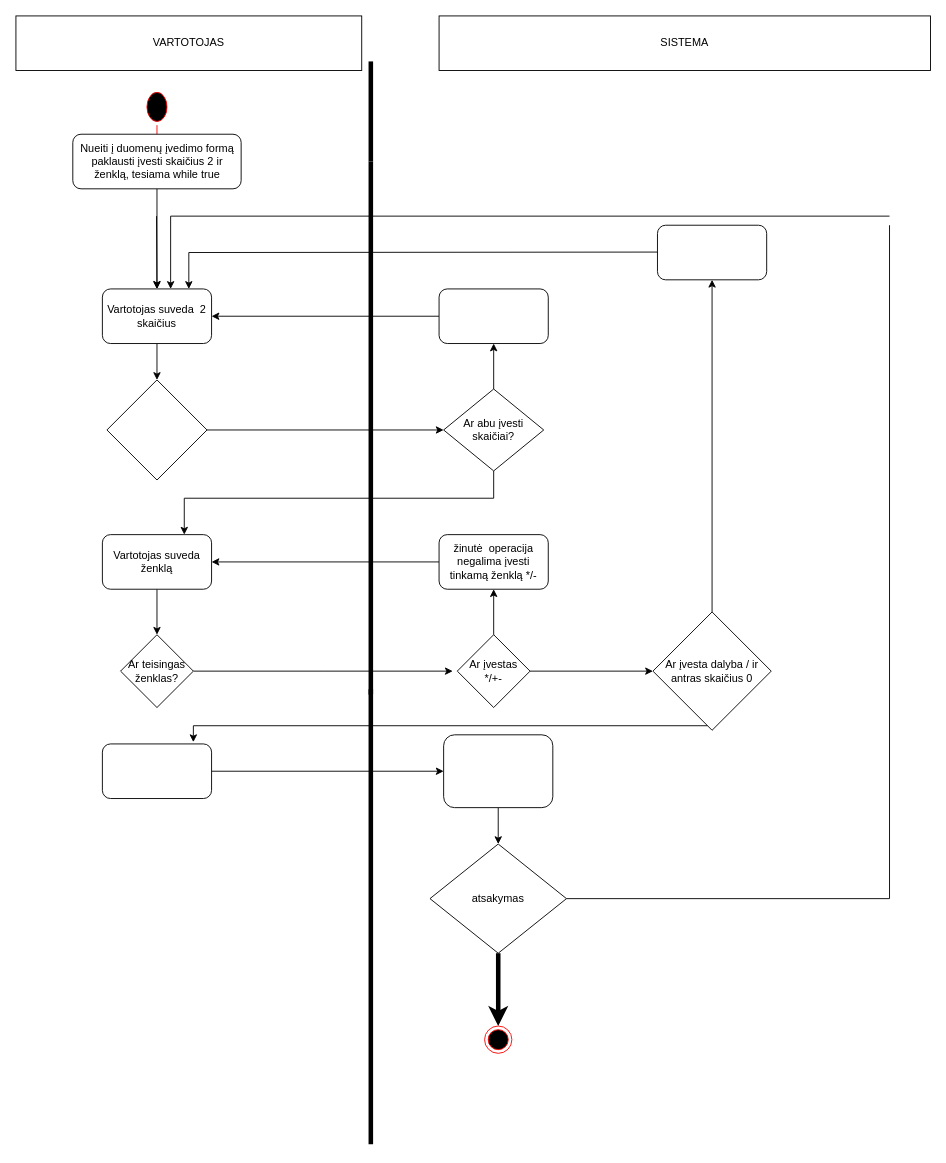
Some shapes in this 946 by 1163 pixel diagram are drawn without their labels. The shapes that lost their labels are listed below. From the top down, each one's centre as x and y in pixels, then its label:
[712,252]: Žinutė dalyba iš 0 negalima prašome patikslinti skaičius
[493,316]: Žinutė įvesti ne skaičiai, prašoma įvesti skaičius
[156,429]: Ar duomenys teisingi?
[156,771]: Saugomi duomenys
[498,771]: Atliekamas matematinis veiksmas parodomas atsakymas klausiama ar skaiciuoti vel
